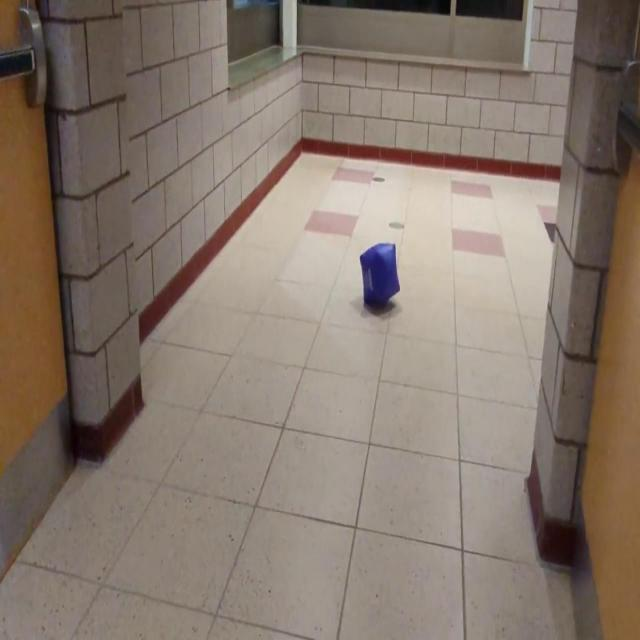frc_cube: (360, 243, 400, 305)
